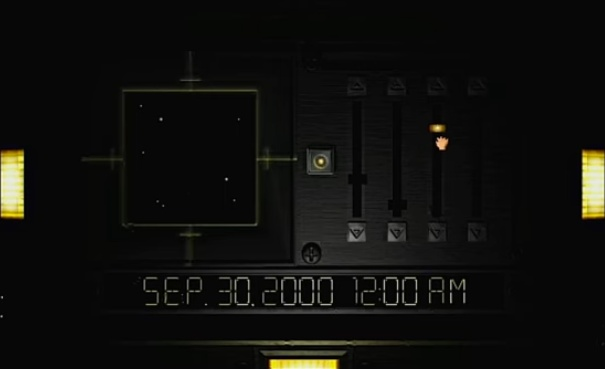Hold: (432, 132, 452, 153)
